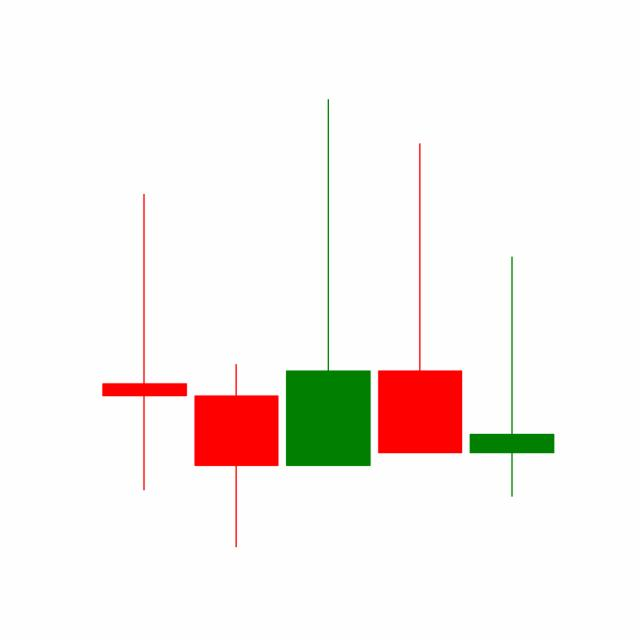Spinning Top: (464, 254, 558, 500)
